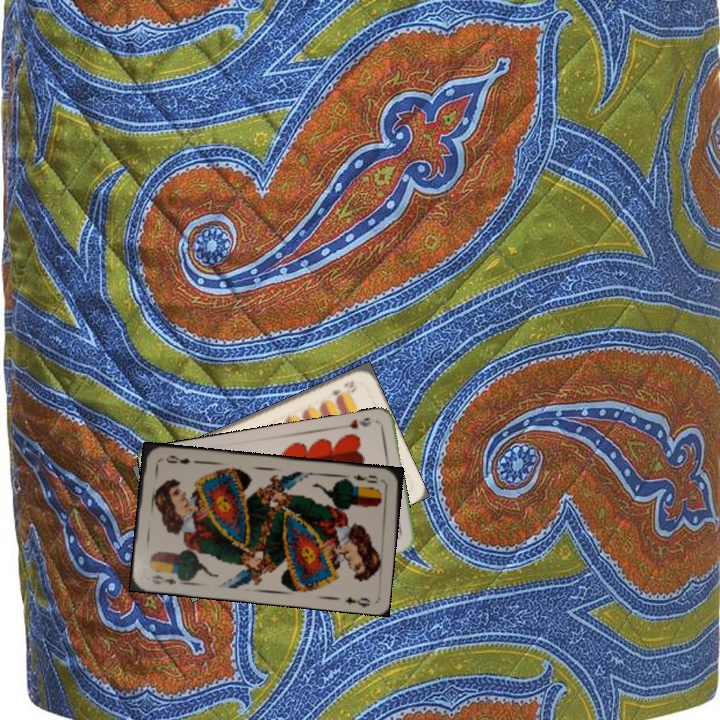E10: (323, 376, 359, 401)
EO: (349, 470, 380, 486), (148, 571, 179, 587)
H9: (345, 414, 374, 431)
